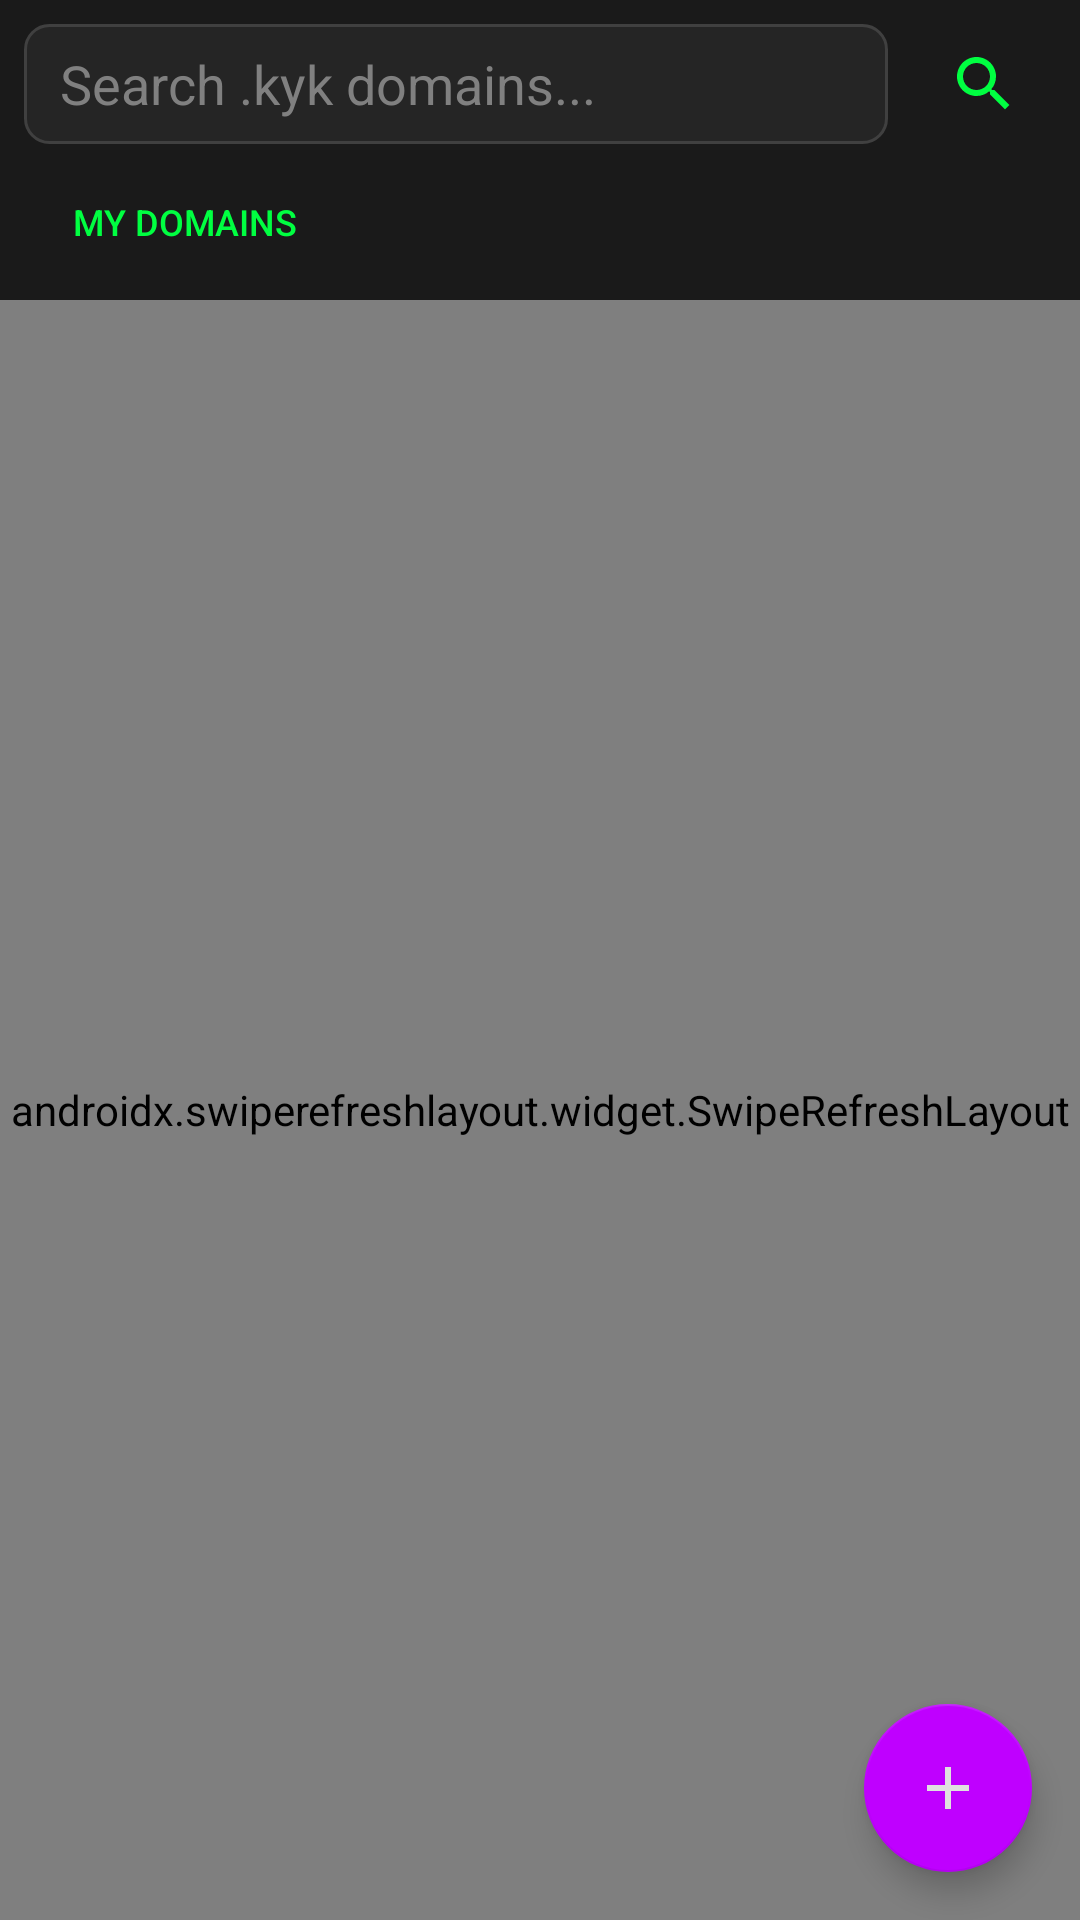

Screen size 1080w x 1920h. Icon name, then its center in pixels as [x,y]:
Register domain: [948,1788]
